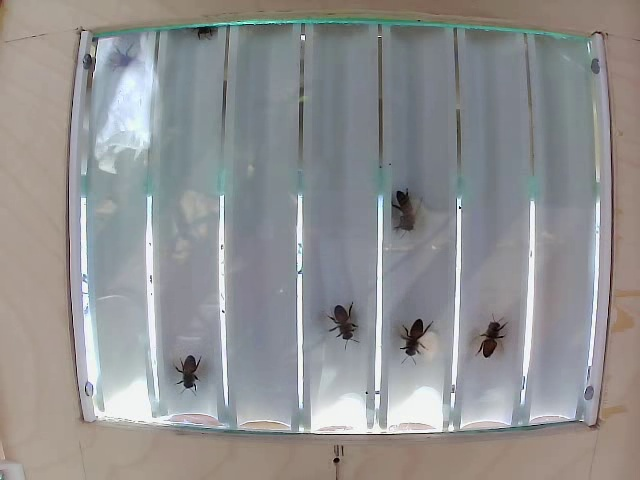bee: (387, 185, 420, 244), (396, 314, 433, 365), (174, 349, 208, 399), (326, 298, 361, 346), (477, 316, 505, 359)
